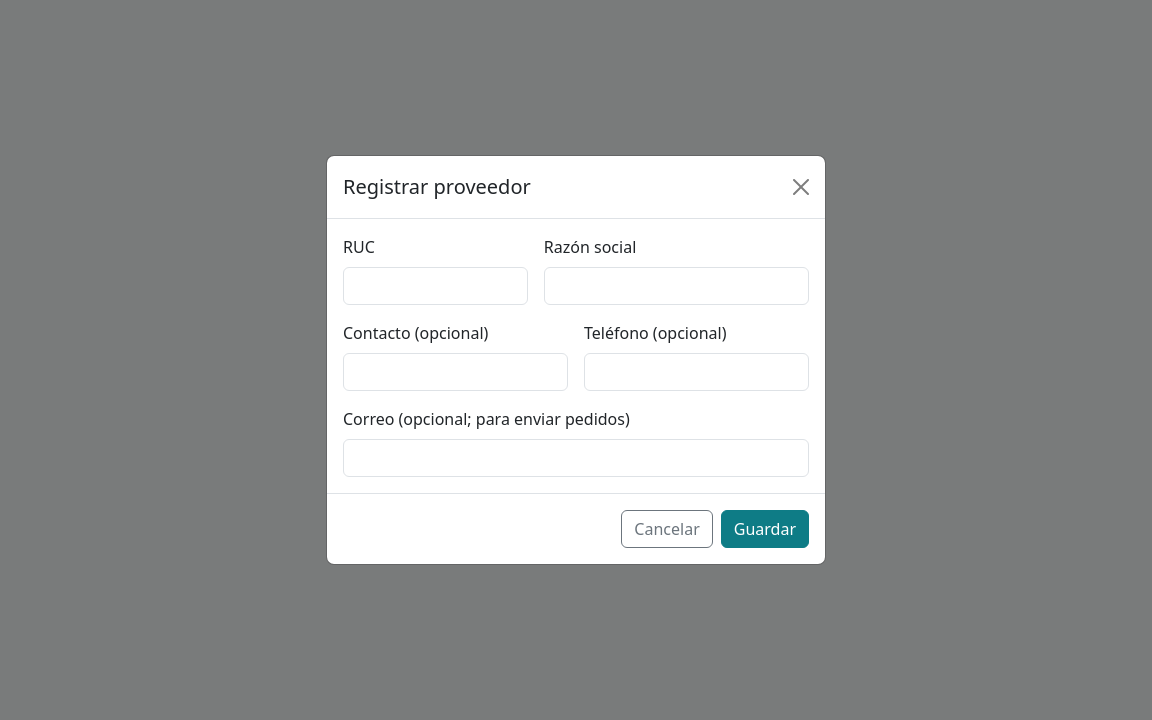
Test: Campos numéricos y RUC › RUC: solo dígitos, máximo 11; al completarlo trae la razón social y avisa si no está activo
The width and height of the screenshot is (1152, 720).
In the field labelled "RUC": (435, 286) [343, 267, 528, 305], type "ab20-481 234 5678 999"
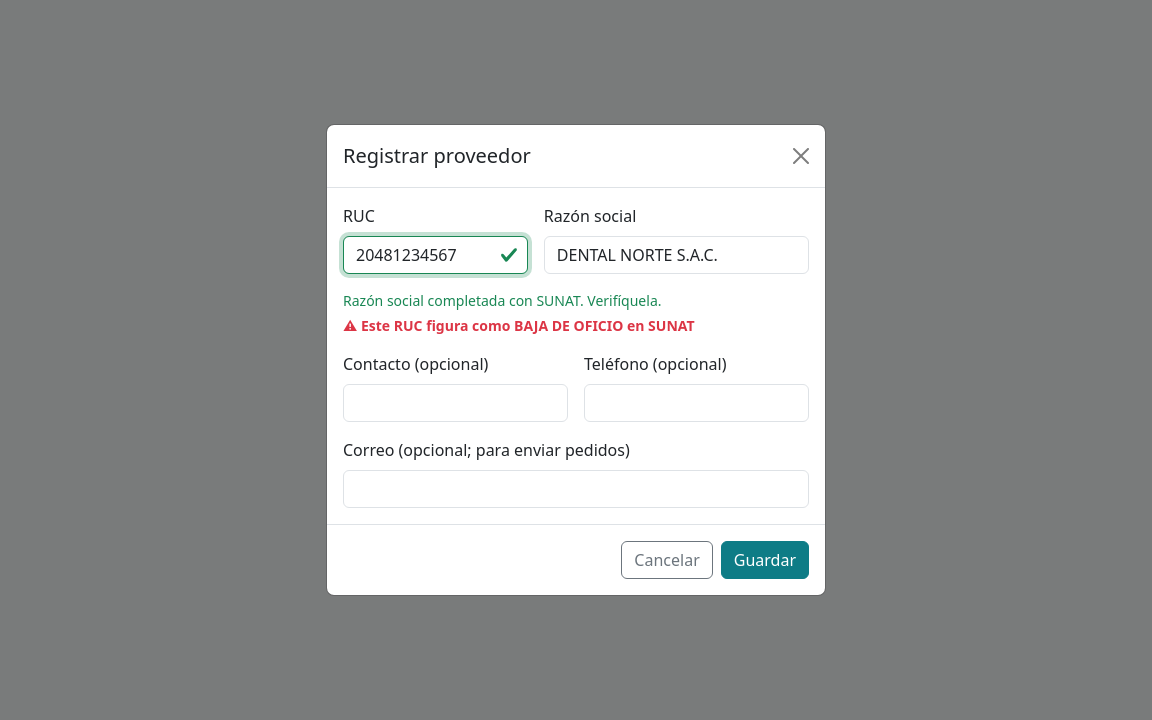
Expected: the field labelled "RUC" holds "20481234567", [343, 236, 528, 274]
Expected: the field labelled "Razón social" holds "DENTAL NORTE S.A.C.", [544, 236, 809, 274]
Expected: the text "⚠ Este RUC figura como BAJA DE OFICIO en SUNAT" is shown, [343, 316, 695, 335]
In the field labelled "Teléfono (opcional)": (696, 403) [584, 384, 809, 422], type "9877-99567x1"
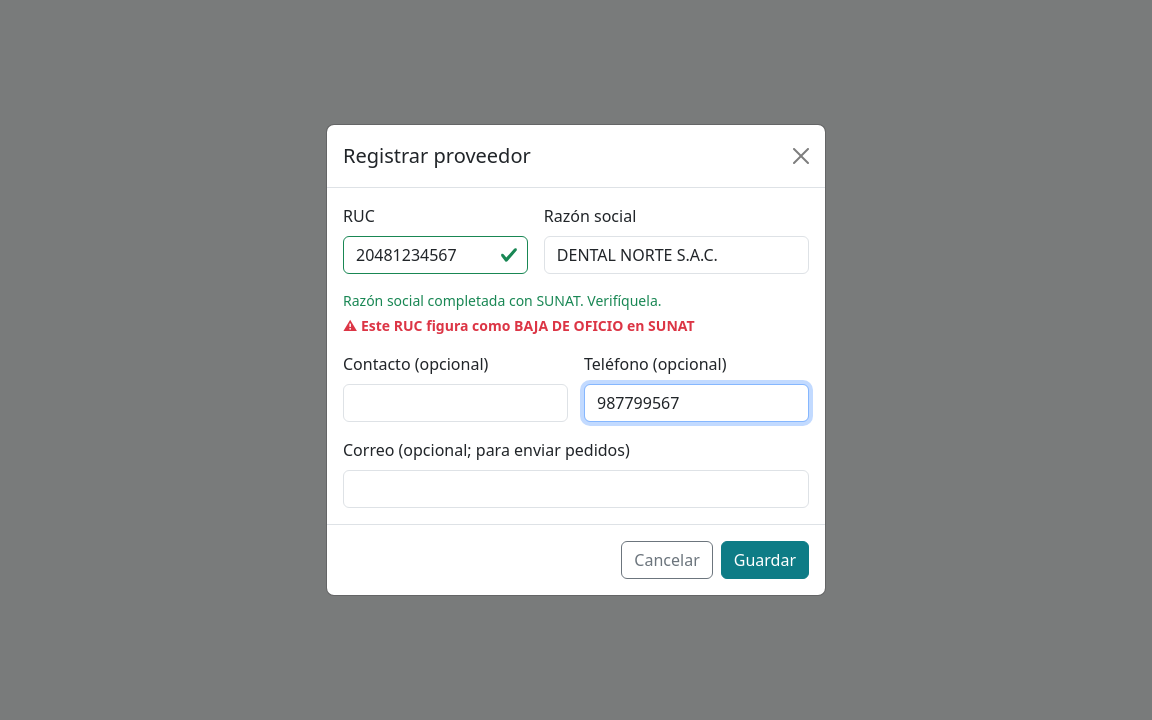
Expected: the field labelled "Teléfono (opcional)" holds "987799567", [584, 384, 809, 422]
